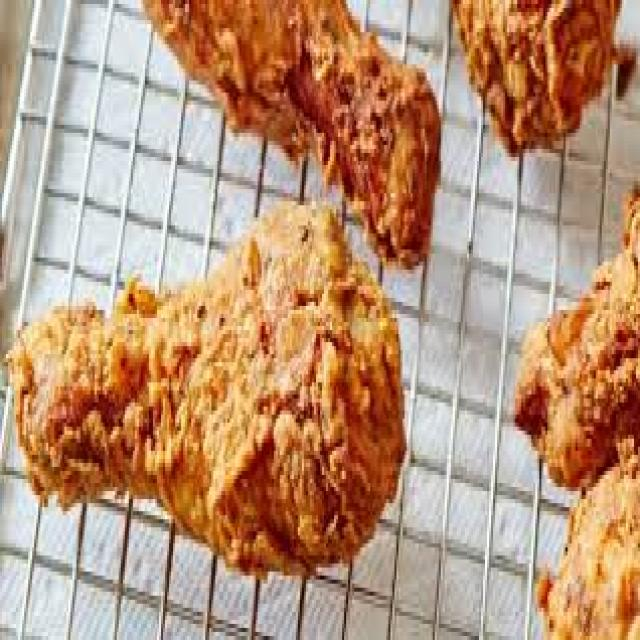Frango: (10, 197, 415, 568), (147, 0, 443, 270), (507, 185, 640, 640), (451, 0, 620, 153)
